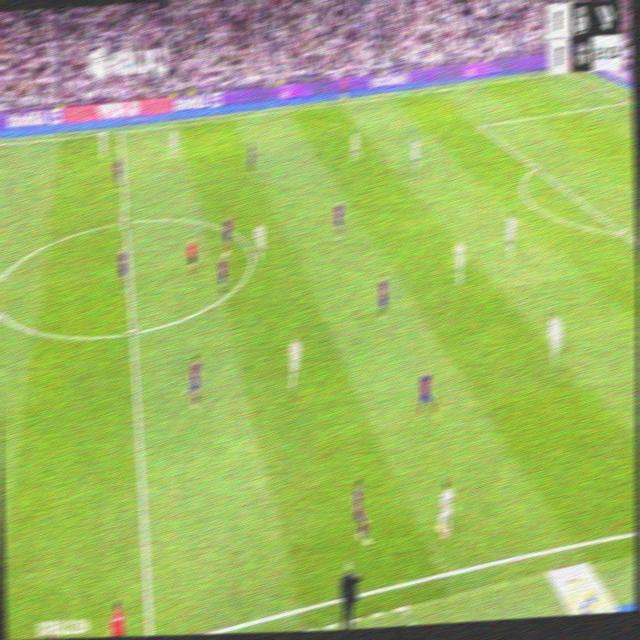bigarea_top_inner: (477, 118, 487, 132)
bigarea_top_outter: (621, 92, 632, 107)
bottom_arc_area_intersection: (614, 221, 627, 239)
halfcircle_bottom: (124, 318, 140, 344)
halfcircle_top: (117, 208, 132, 232)
midline_top_intersection: (115, 124, 125, 138)
top_arc_area_intersection: (529, 157, 540, 174)
